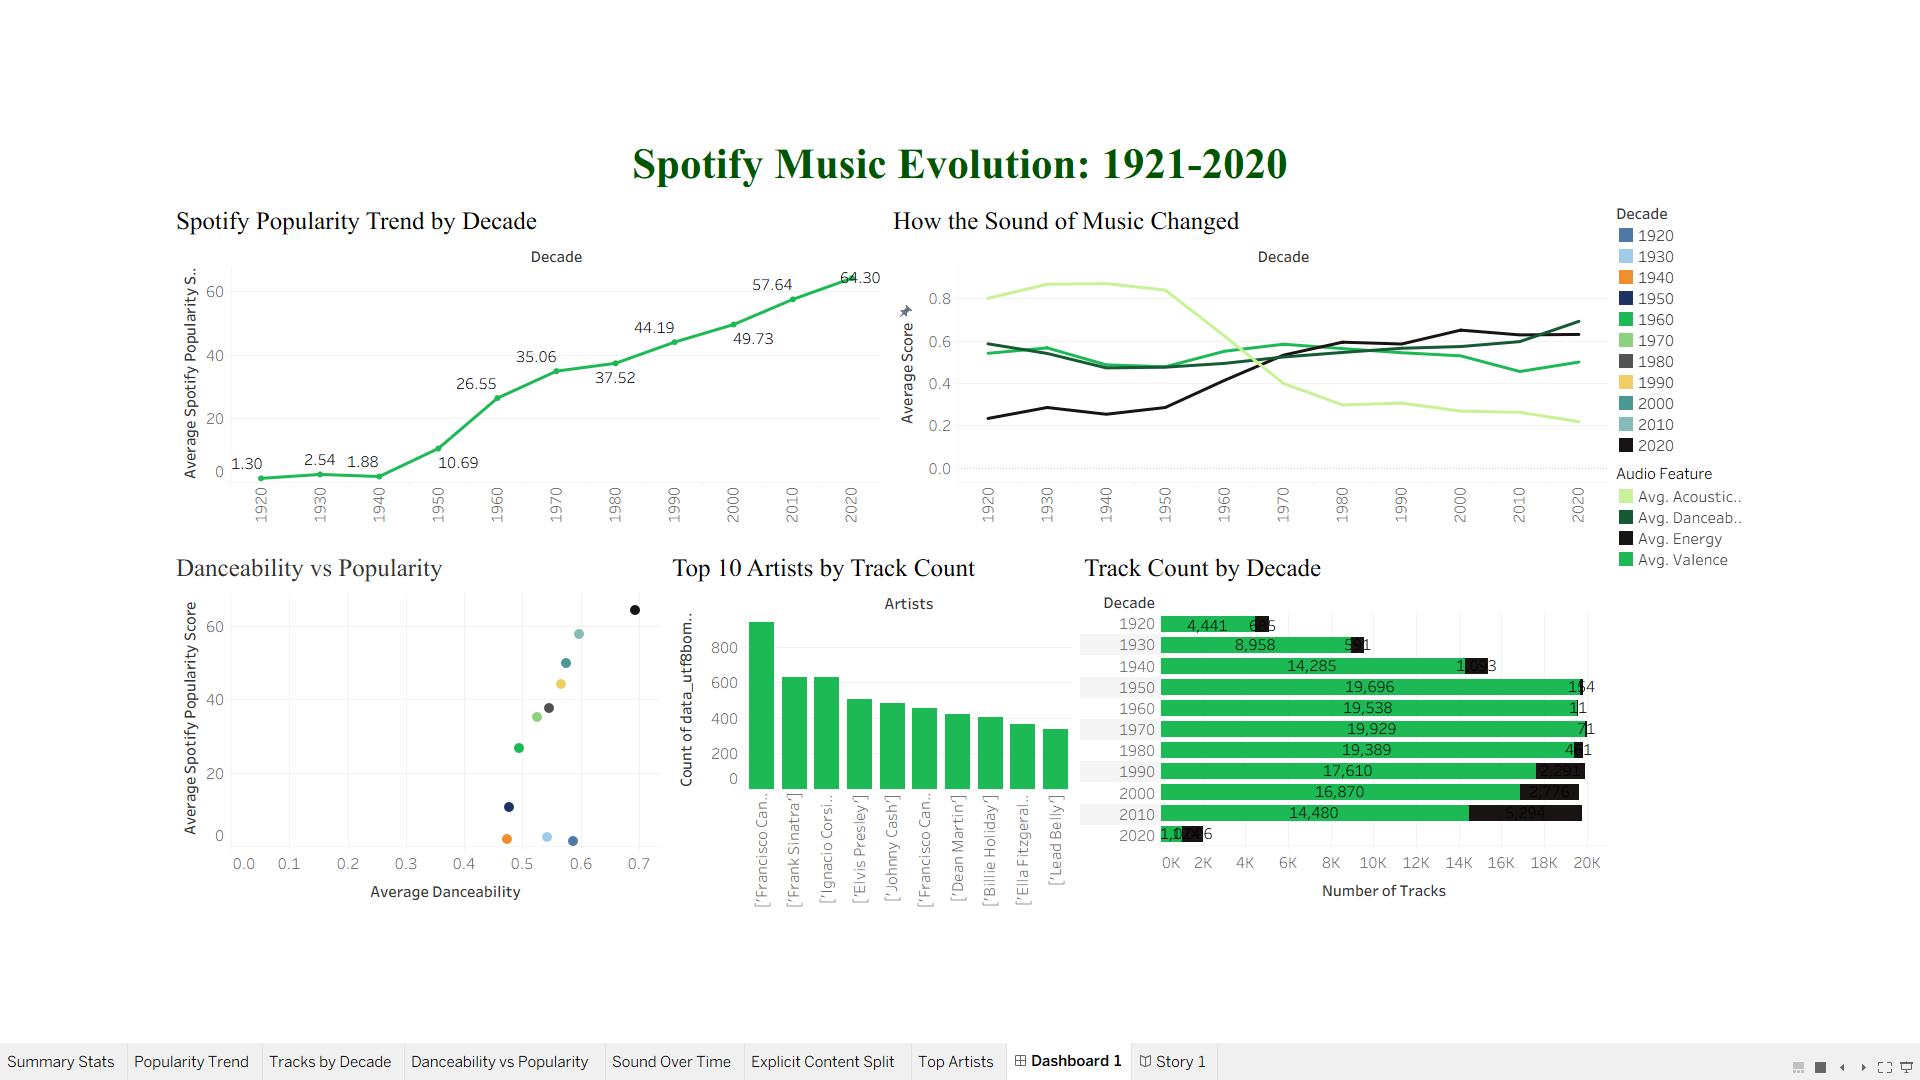

Layout of this report page (visuals, bound fields, positions):
{"tool":"tableau","page":{"name":"Dashboard 1","canvas":[1600,800],"ordinal":0},"visuals":[{"type":"text","box":[8,8,1584,70]},{"type":"worksheet","title":"Popularity Trend","mark":"Line","rows":["popularity"],"cols":["Calculation_0721324240199680"],"box":[8,78,716.9,346.6]},{"type":"worksheet","title":"Sound Over Time","mark":"Line","cols":["Calculation_0721324240199680"],"box":[724.9,78,726.9,346.6]},{"type":"legend","title":"Danceability vs Popularity","param":"[federated.1d33ol11kni64a12kqp8511qiv65].[none:Calculation_0721324240199680:ok]","box":[1452,78,140,261]},{"type":"legend","title":"Sound Over Time","param":"[federated.1d33ol11kni64a12kqp8511qiv65].[:Measure Names]","box":[1452,339,140,114]},{"type":"worksheet","title":"Danceability vs Popularity","mark":"Circle","rows":["popularity"],"cols":["danceability"],"box":[8,424.6,496,367.4]},{"type":"worksheet","title":"Top Artists","mark":"Automatic","rows":["data_utf8bom.csv_01276187A1A2444584E1C051F48E15B9"],"cols":["artists"],"box":[504,424.6,412,367.4]},{"type":"worksheet","title":"Tracks by Decade","mark":"Automatic","rows":["Calculation_0721324240199680"],"cols":["data_utf8bom.csv_01276187A1A2444584E1C051F48E15B9"],"box":[916,424.6,536,367.4]}]}

Visuals, with their boxes on the page's 1600x800 design canvas (x1, y1, x2, y2). These are canvas units, not pixel positions in the 1920x1080 screenshot, which may show the page scaled, cropped or inside an application window:
text: [left=8, top=8, right=1592, bottom=78]
"Popularity Trend" worksheet (Line marks): [left=8, top=78, right=725, bottom=425]
"Sound Over Time" worksheet (Line marks): [left=725, top=78, right=1452, bottom=425]
"Danceability vs Popularity" legend: [left=1452, top=78, right=1592, bottom=339]
"Sound Over Time" legend: [left=1452, top=339, right=1592, bottom=453]
"Danceability vs Popularity" worksheet (Circle marks): [left=8, top=425, right=504, bottom=792]
"Top Artists" worksheet: [left=504, top=425, right=916, bottom=792]
"Tracks by Decade" worksheet: [left=916, top=425, right=1452, bottom=792]
